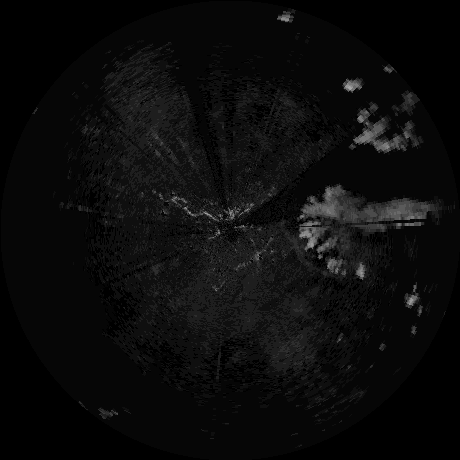frontgust: (276, 226, 332, 276)
